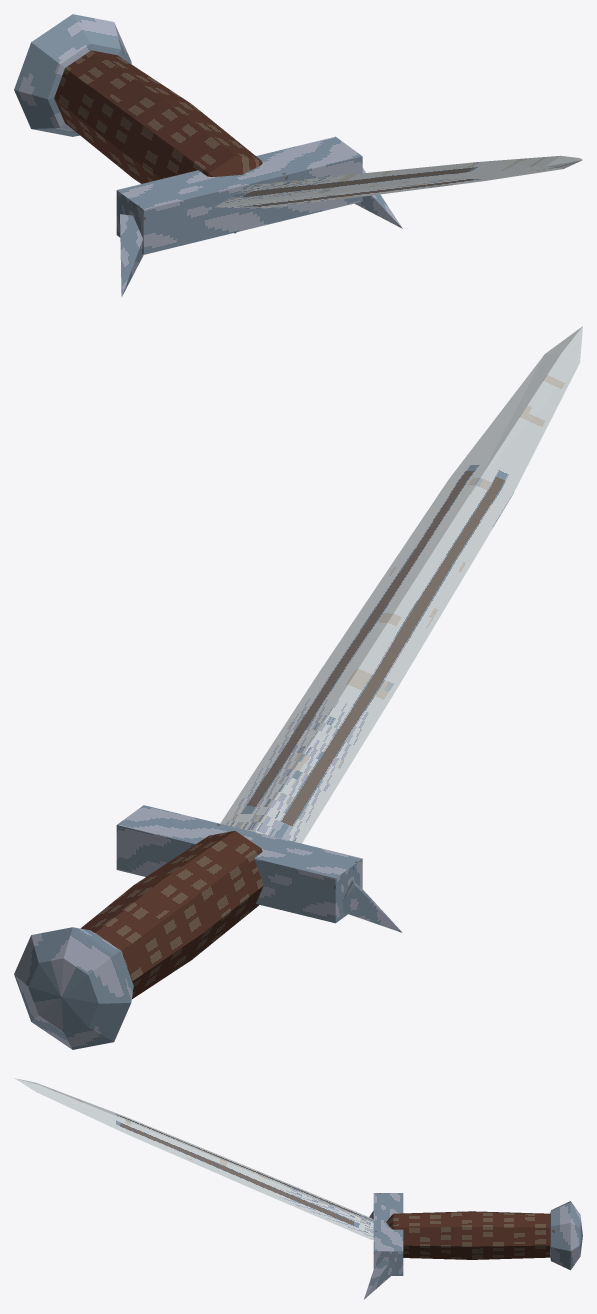
File: blade.glb
The picture shows the model from 3 angles, top to bottom: view 1: azimuth 30°, elevation 25°; view 2: azimuth 150°, elevation 25°; view 3: azimuth 270°, elevation 25°; orthographic projection. The views are drawn at different scales.
Visible parts, largest first — view 1: sword; view 2: sword; view 3: sword.
Part boxes in pixels (x1=…): sword: x1=14, y1=14, x2=582, y2=296; sword: x1=14, y1=326, x2=582, y2=1049; sword: x1=14, y1=1078, x2=582, y2=1299.
Size of the model in its own units: 0.1296 by 0.1541 by 0.4158.
Materials: 1 (1 with a texture image).
